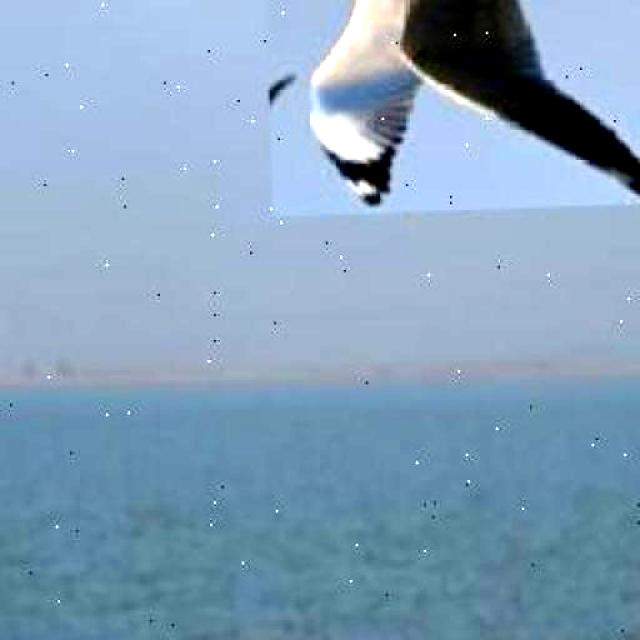airplane: (260, 0, 640, 216)
